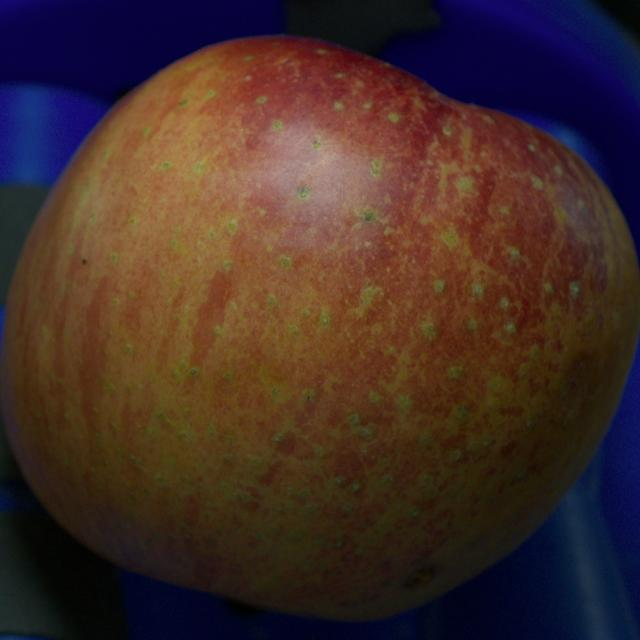apple: (0, 37, 639, 620)
bruise: (551, 348, 607, 428)
pest: (404, 566, 434, 589)
